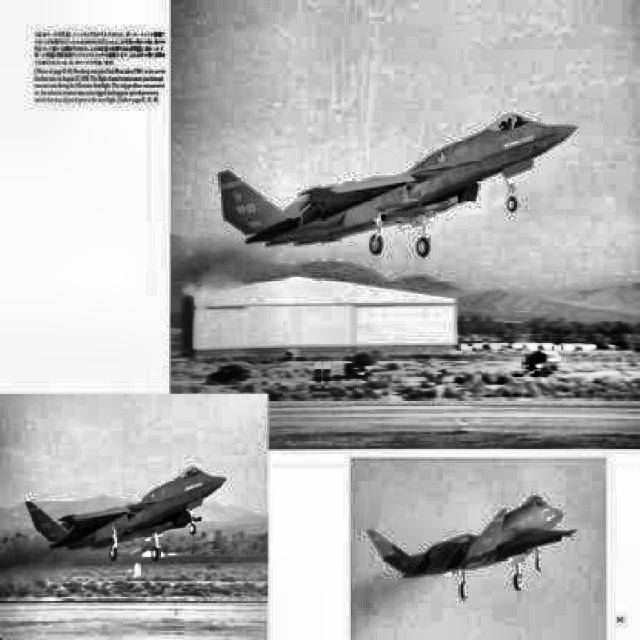YF23: (217, 112, 578, 257), (367, 495, 578, 599), (25, 466, 226, 562)
